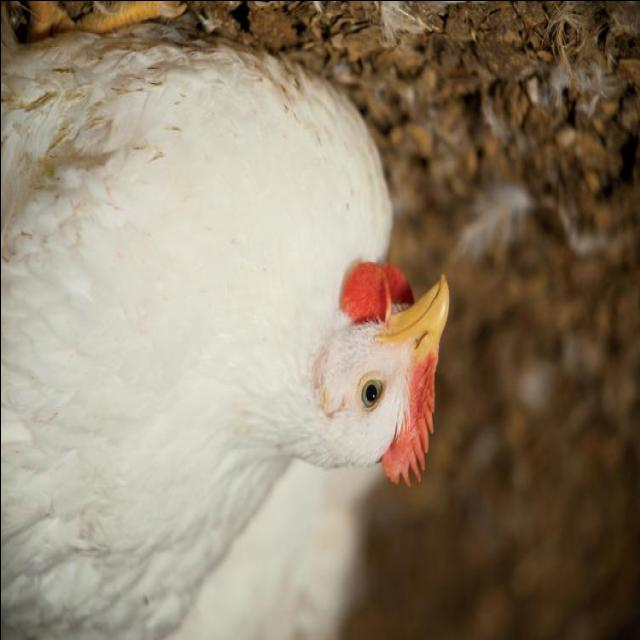Healthy: (2, 2, 450, 488)
